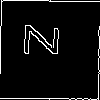Z: (24, 24, 67, 55)
